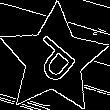P_SE: (23, 29, 84, 90)
